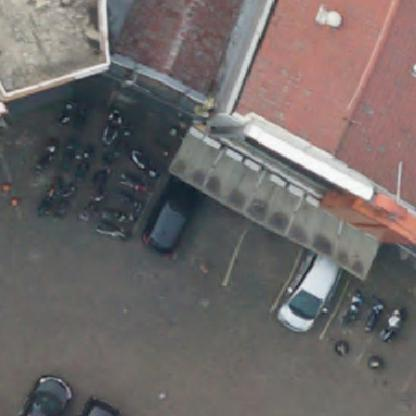Car: (280, 249, 343, 336), (148, 178, 204, 256), (17, 371, 74, 415), (80, 398, 122, 415)
Motorcycle: (126, 146, 157, 176), (379, 307, 406, 341), (94, 221, 133, 244), (34, 136, 58, 172), (34, 179, 58, 215), (76, 194, 105, 223), (102, 202, 137, 225), (72, 146, 96, 178), (110, 186, 141, 210), (52, 184, 72, 219), (115, 176, 150, 195), (344, 288, 362, 324), (105, 109, 123, 144), (57, 96, 76, 126), (364, 300, 381, 332), (93, 164, 110, 194)
